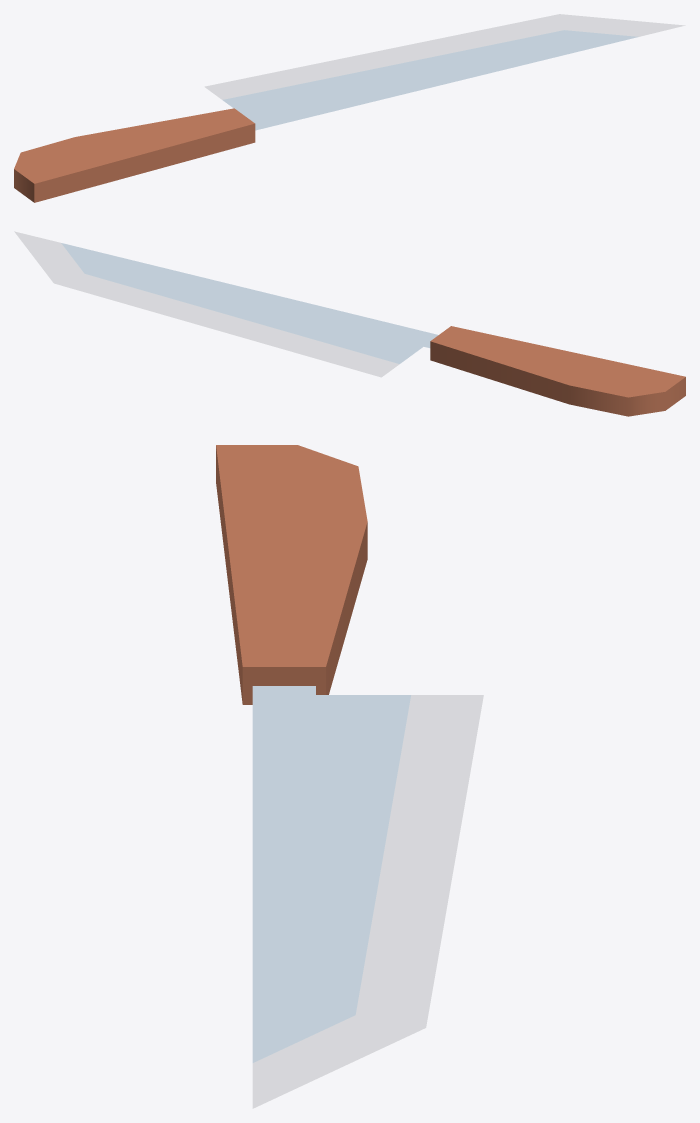
File: cookingKnife.GLB
3 views of the same model, one above another, from view 1: azimuth 30°, elevation 25°; view 2: azimuth 150°, elevation 25°; view 3: azimuth 270°, elevation 25° (orthographic). The views are drawn at different scales.
Parts seen in each view (by area): view 1: cookingKnife; view 2: cookingKnife; view 3: cookingKnife.
Part boxes in pixels (<box>): cookingKnife: <box>14,14,685,202</box>; cookingKnife: <box>14,231,685,416</box>; cookingKnife: <box>216,445,483,1108</box>.
Bounding box in the file's own units: 0.7262 × 0.02 × 0.1275.
